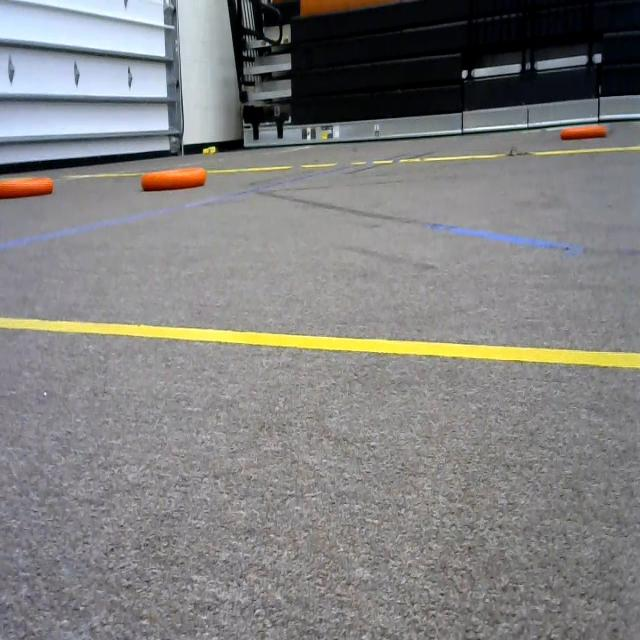note: (136, 169, 217, 196), (0, 172, 56, 203), (557, 119, 613, 141)
